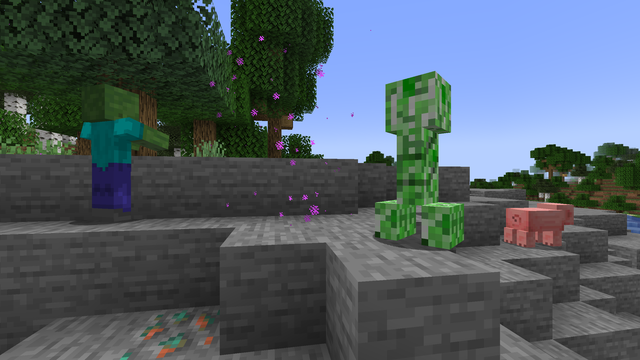cochons: (503, 206, 568, 248)
creepers: (380, 63, 463, 247)
zombies: (74, 86, 142, 223)
